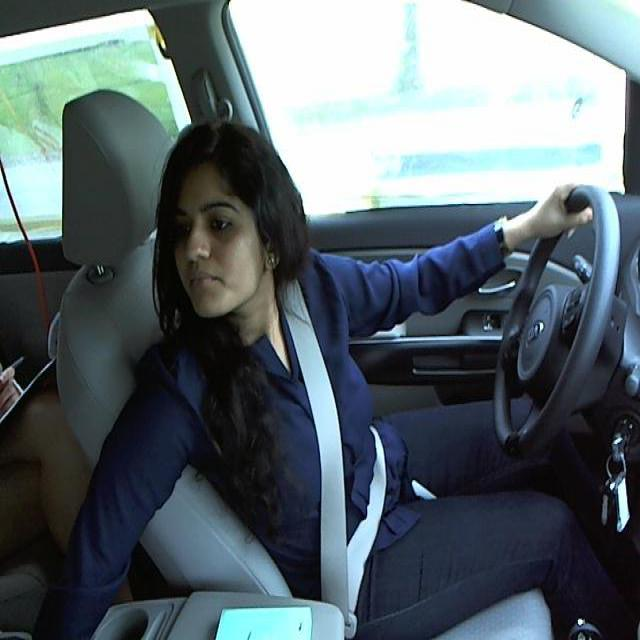seatbelt: (269, 298, 385, 606)
